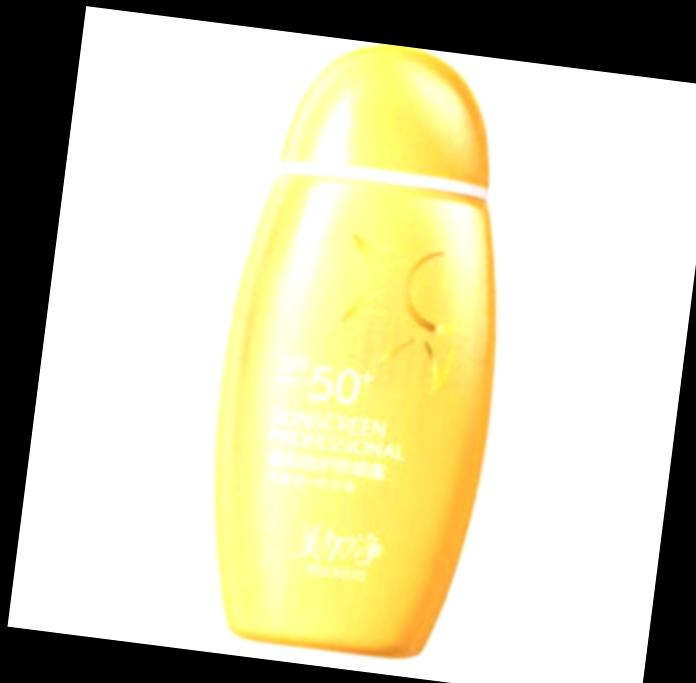cosmetic: (185, 29, 532, 669)
